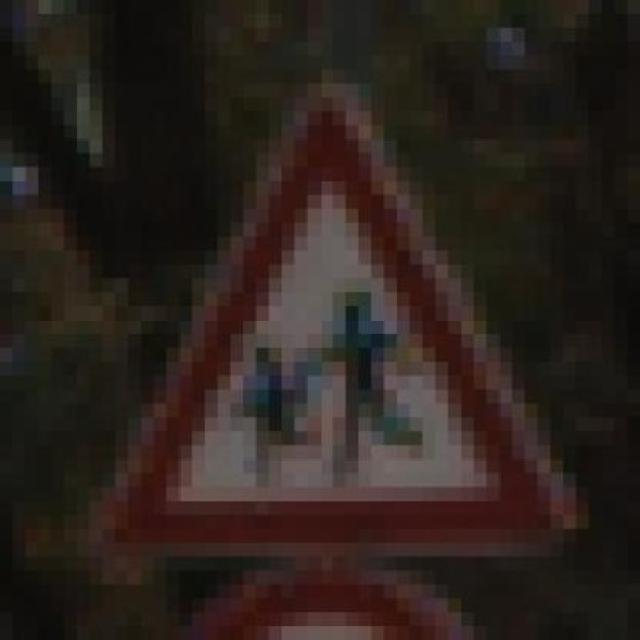Beware of children: (76, 55, 576, 557)
